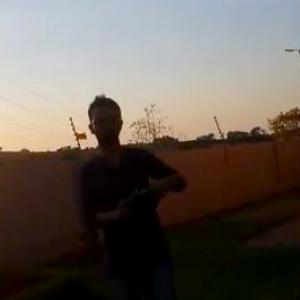follow: (68, 88, 190, 299)
